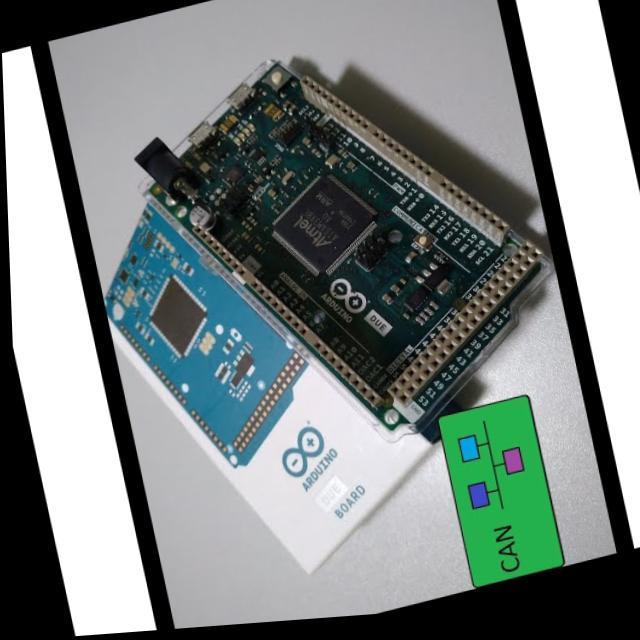Arduino-Due: (137, 62, 543, 431)
